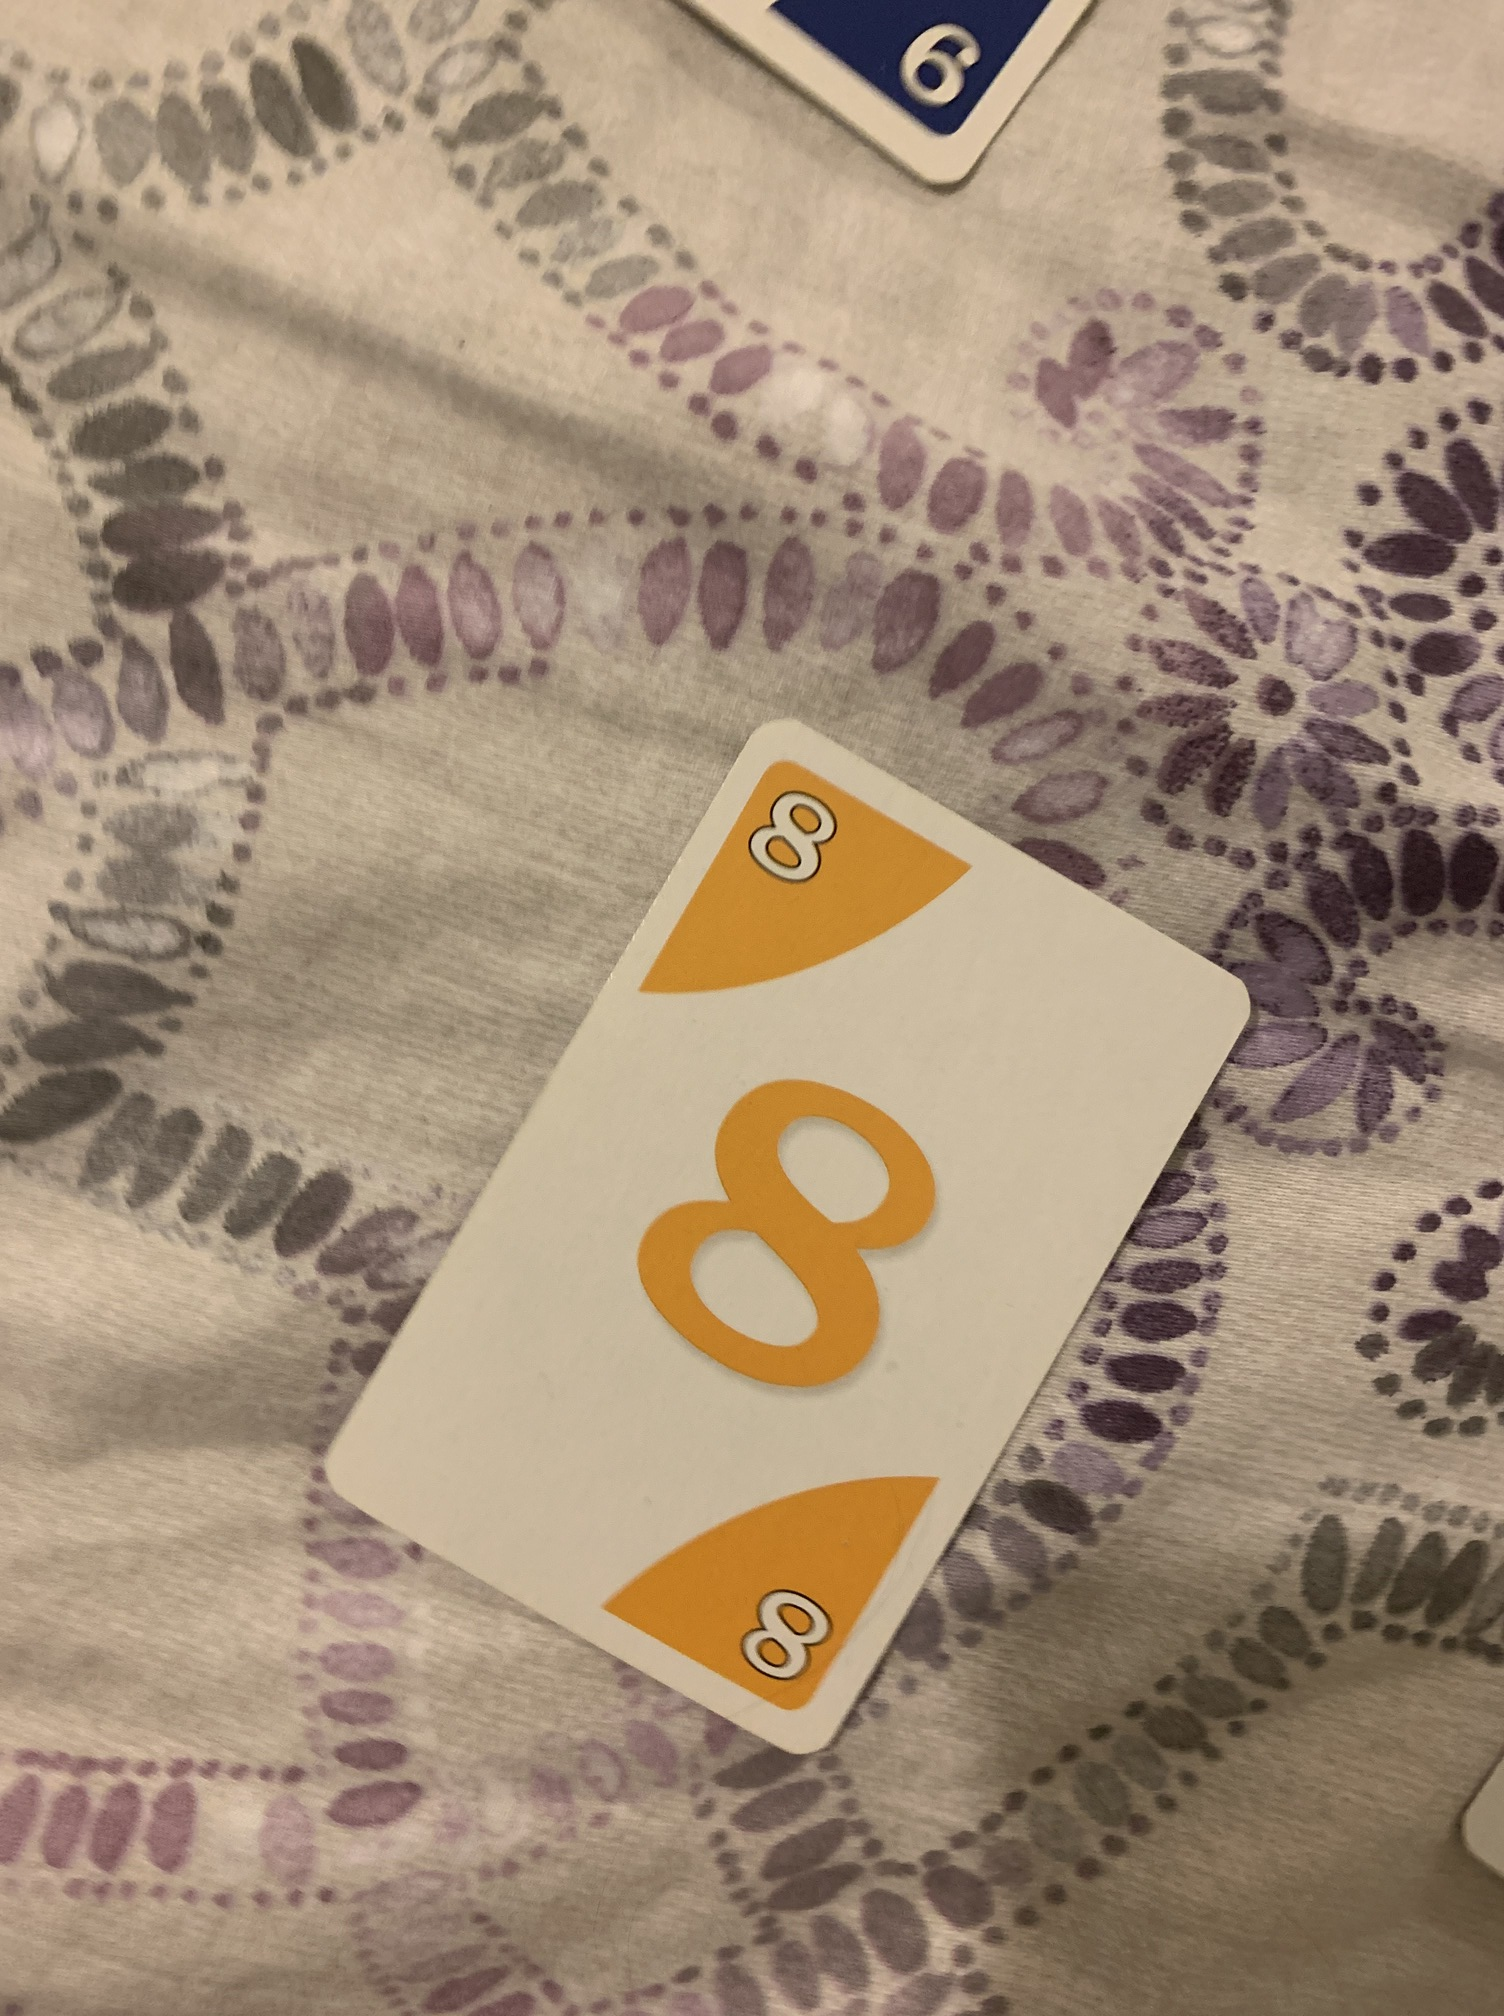eight: (311, 713, 1251, 1768)
